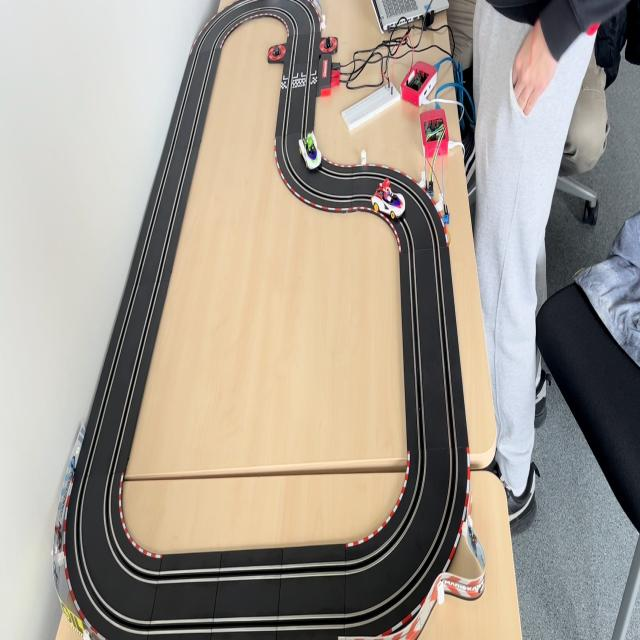mario: (369, 174, 407, 224)
yoshi: (299, 132, 321, 172)
